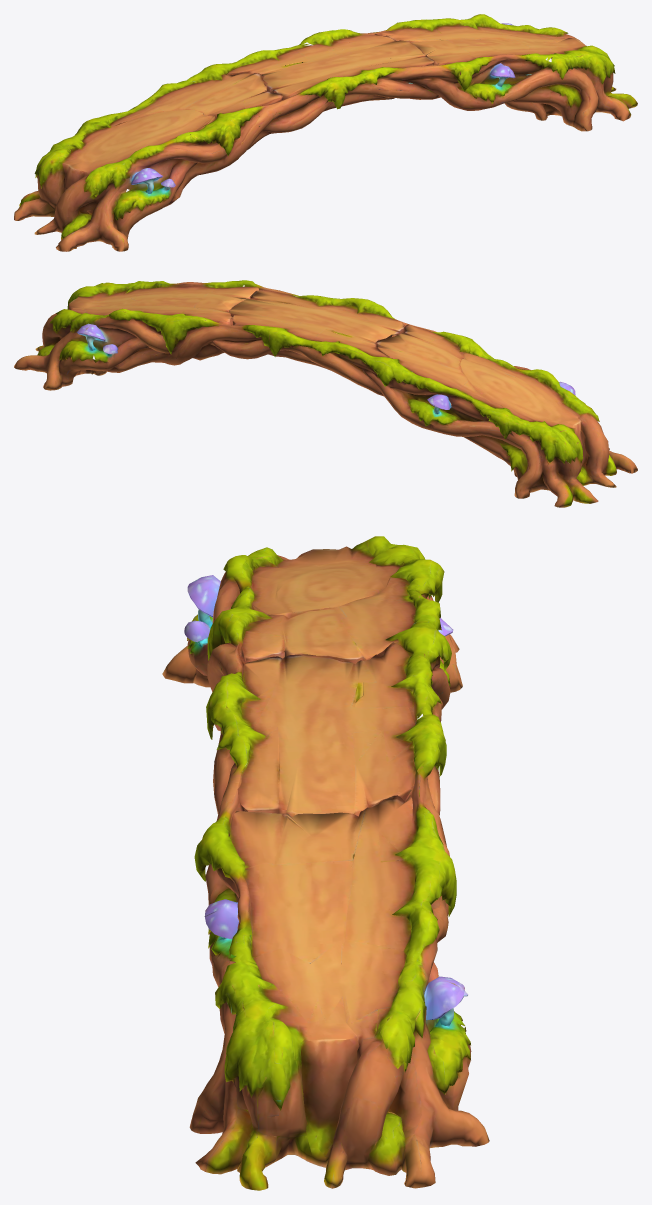
File: root_bridge.glb
The picture shows the model from 3 angles, top to bottom: view 1: azimuth 30°, elevation 25°; view 2: azimuth 150°, elevation 25°; view 3: azimuth 270°, elevation 25°; orthographic projection. The views are drawn at different scales.
Size of what is drawn, in the model's own units: 5.81 by 0.9996 by 1.42.
Materials: 1 (1 with a texture image).
